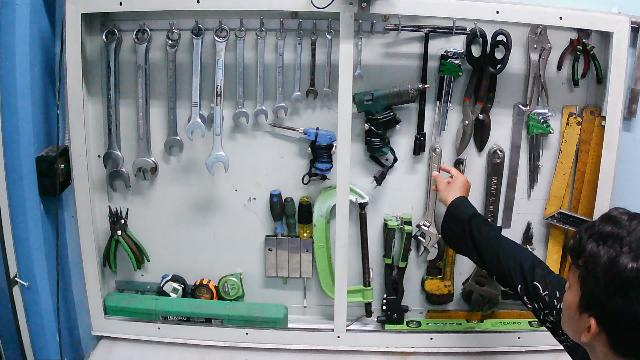kunci_inggris: (413, 143, 442, 261)
